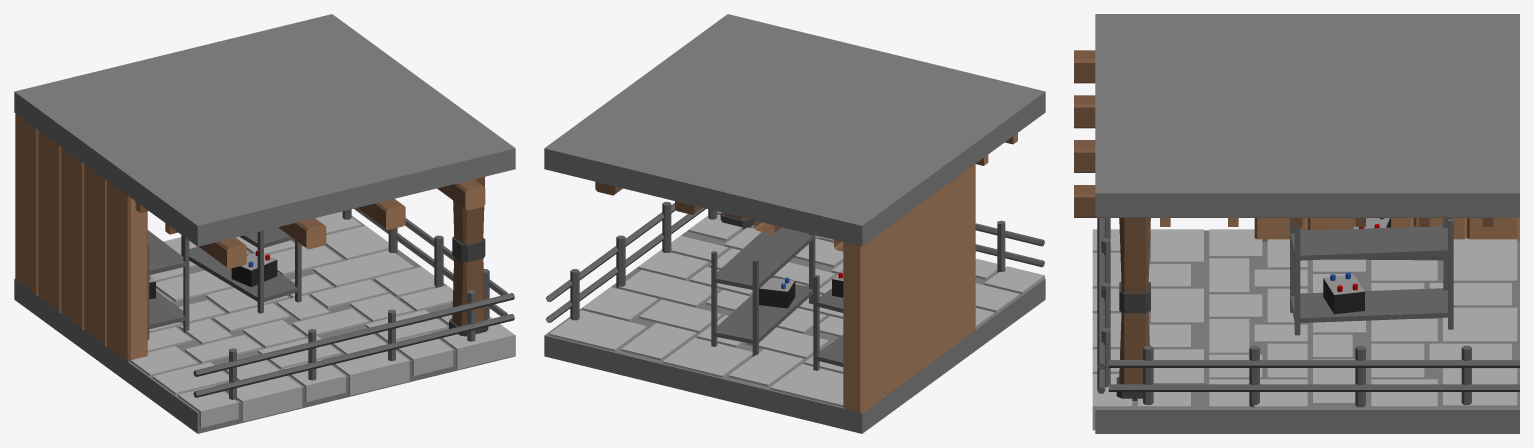
The model's file is BatteryRom_Lvl_01_CornerLeft.fbx.
3 views of the same model, side by side, from view 1: azimuth 30°, elevation 25°; view 2: azimuth 150°, elevation 25°; view 3: azimuth 270°, elevation 25° (orthographic). The views are drawn at different scales.
Parts seen in each view (by area): view 1: BatteryRom_Lvl_01_CornerLeft; view 2: BatteryRom_Lvl_01_CornerLeft; view 3: BatteryRom_Lvl_01_CornerLeft.
Boxes of the visible parts, x1,y1,x2,y2 form: BatteryRom_Lvl_01_CornerLeft: [14, 14, 515, 433]; BatteryRom_Lvl_01_CornerLeft: [544, 14, 1045, 433]; BatteryRom_Lvl_01_CornerLeft: [1074, 14, 1519, 433].
Size of the model in its own units: 8 by 5 by 8.4.
